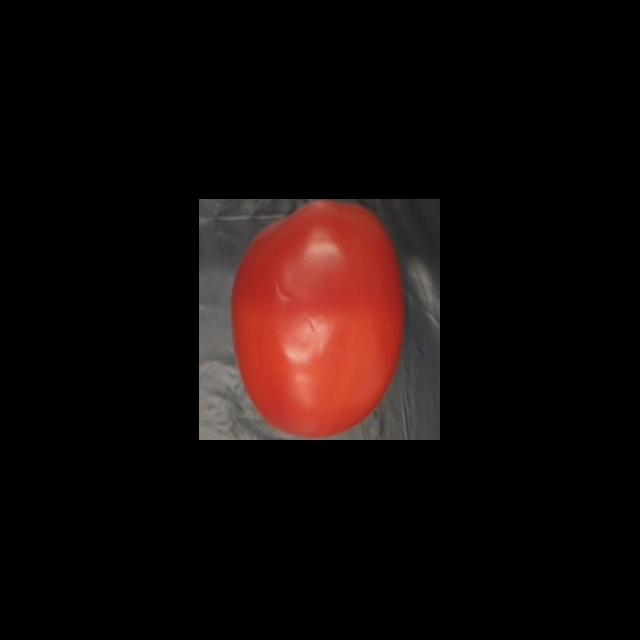tomato: (223, 200, 411, 440)
